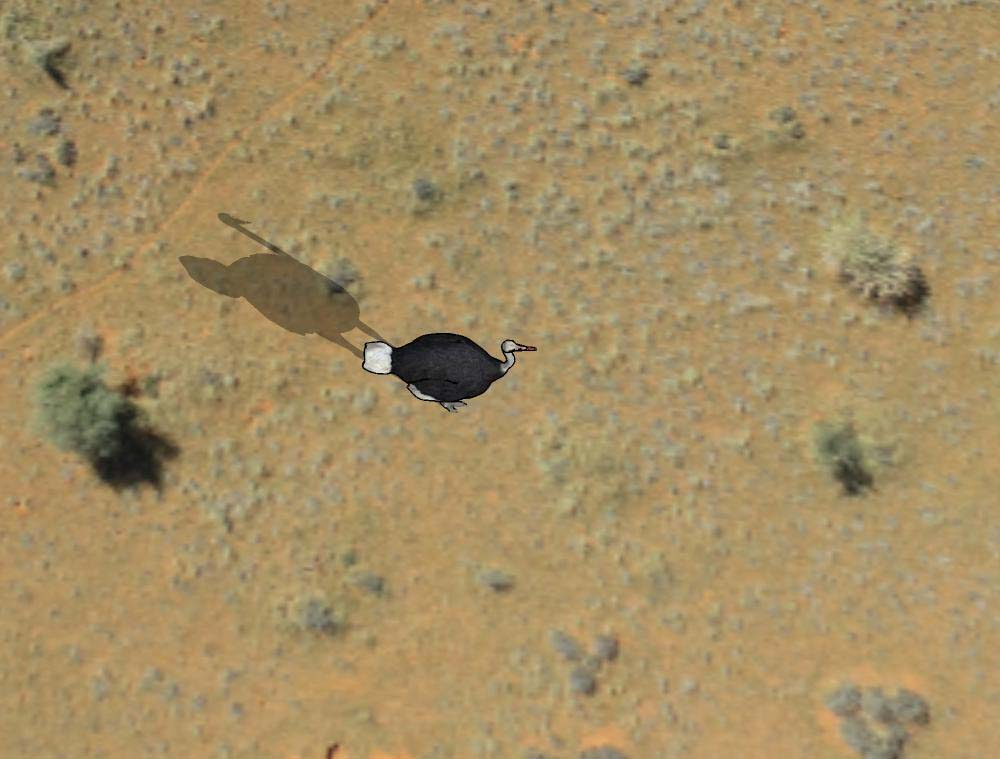ostrich: (357, 322, 540, 417)
